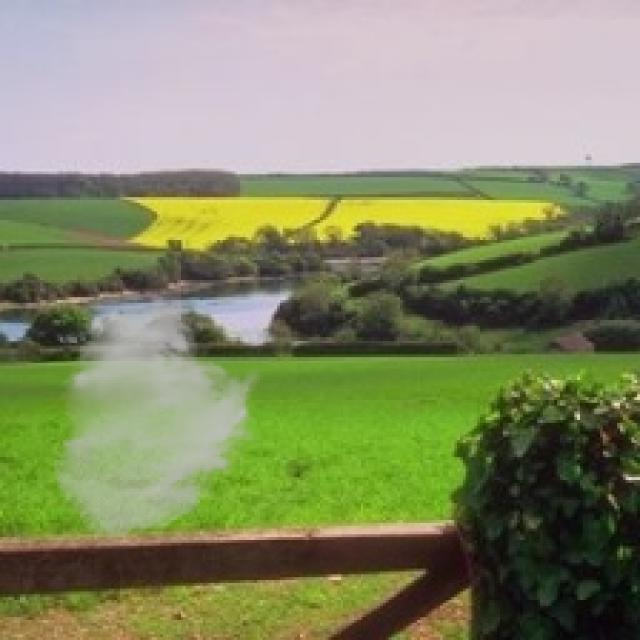smoke: (51, 291, 263, 543)
